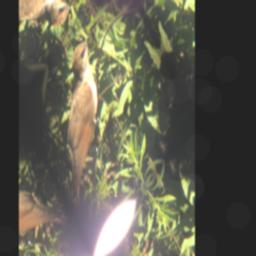Cuckoo: (27, 29, 139, 218)
